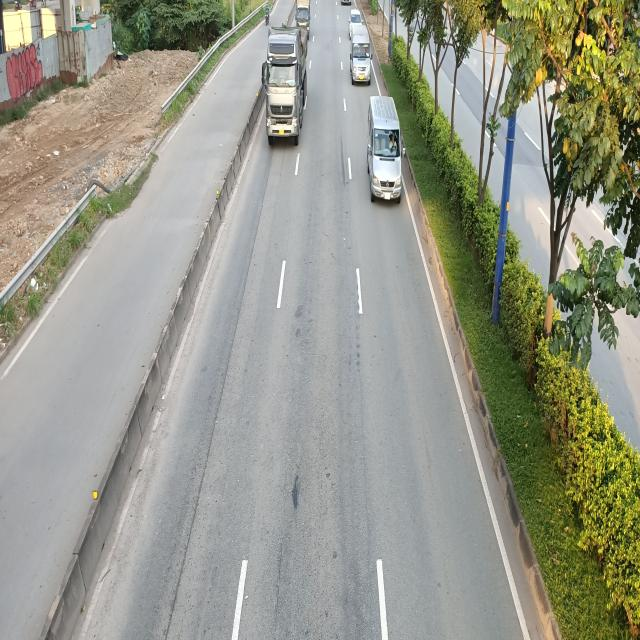car: (349, 9, 362, 35)
container: (262, 18, 308, 143)
van: (364, 96, 404, 204), (349, 23, 373, 87)
